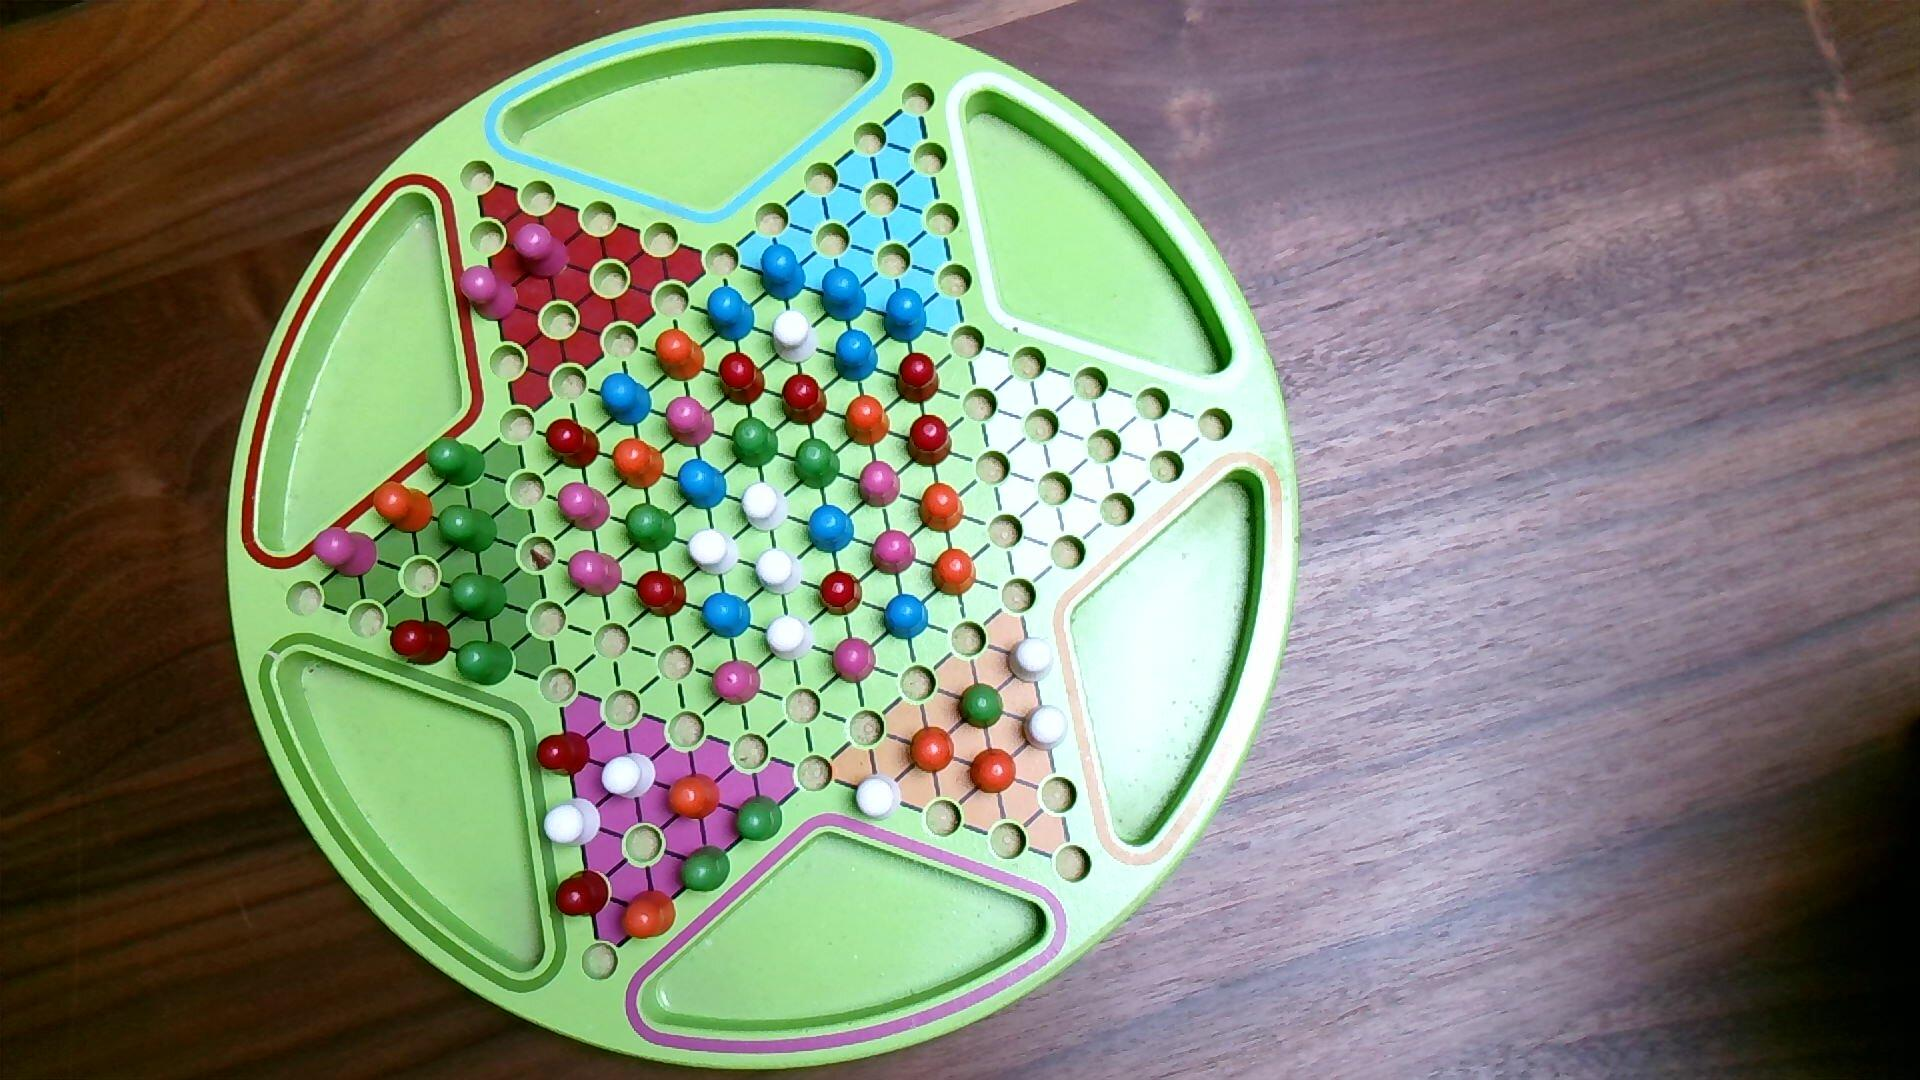B: (599, 371, 655, 429), (760, 243, 808, 305), (705, 286, 757, 344), (819, 265, 868, 324), (804, 502, 857, 556), (676, 458, 729, 512), (882, 287, 930, 345), (699, 592, 754, 641), (833, 328, 881, 385), (882, 592, 931, 642)
G: (423, 435, 488, 489), (436, 504, 500, 556), (447, 571, 509, 624), (622, 502, 679, 556), (454, 640, 516, 688), (793, 435, 843, 493), (731, 415, 781, 469), (733, 793, 785, 844), (679, 844, 732, 894), (957, 682, 1006, 732)
O: (371, 480, 435, 535), (611, 436, 666, 492), (653, 327, 707, 384), (620, 889, 678, 942), (665, 771, 723, 822), (843, 393, 891, 450), (916, 481, 967, 535), (967, 746, 1019, 796), (907, 725, 957, 775), (930, 547, 978, 599)
R: (389, 618, 454, 669), (545, 417, 603, 472), (554, 868, 611, 920), (717, 351, 767, 409), (535, 729, 592, 779), (634, 568, 688, 620), (905, 413, 953, 469), (781, 372, 829, 429), (895, 351, 942, 407), (818, 568, 864, 618)
R2: (311, 526, 378, 580), (459, 265, 520, 324), (567, 549, 624, 600), (665, 396, 717, 450), (556, 483, 612, 534), (709, 659, 764, 708), (869, 527, 919, 578), (829, 636, 878, 687), (857, 460, 903, 509), (512, 222, 549, 255)
W: (542, 796, 603, 849), (684, 527, 742, 578), (600, 752, 658, 800), (770, 310, 819, 367), (738, 481, 790, 534), (852, 773, 905, 823), (764, 615, 815, 665), (754, 547, 804, 597), (1006, 636, 1058, 684), (1022, 703, 1071, 752)
